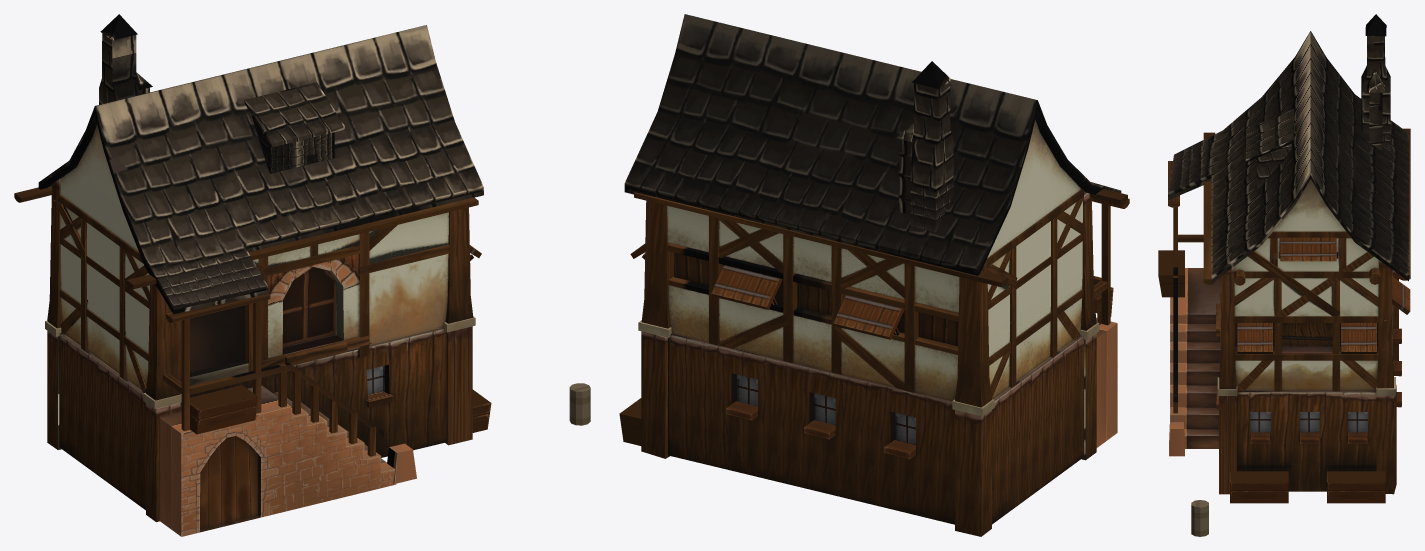
Rendered from house.obj.
3 views of the same model, side by side, from view 1: azimuth 30°, elevation 25°; view 2: azimuth 150°, elevation 25°; view 3: azimuth 270°, elevation 25° (orthographic). The views are drawn at different scales.
Parts seen in each view (by area): view 1: 1_1_lambert33SG, 1_1_lambert35SG, 1_1_lambert34SG, 1_1_lambert36SG, 1_1_lambert38SG, 1_1_initialShadingGroup; view 2: 1_1_lambert33SG, 1_1_lambert35SG, 1_1_lambert34SG, 1_1_lambert36SG; view 3: 1_1_lambert33SG, 1_1_lambert35SG, 1_1_lambert34SG, 1_1_lambert36SG, 1_1_lambert38SG, 1_1_initialShadingGroup.
Boxes of the visible parts, x1=… form: 1_1_lambert33SG: x1=14, y1=124, x2=478, y2=522; 1_1_lambert35SG: x1=38, y1=25, x2=483, y2=309; 1_1_lambert34SG: x1=85, y1=224, x2=491, y2=536; 1_1_lambert36SG: x1=38, y1=14, x2=483, y2=314; 1_1_lambert38SG: x1=251, y1=114, x2=334, y2=173; 1_1_initialShadingGroup: x1=569, y1=383, x2=590, y2=425; 1_1_lambert33SG: x1=634, y1=119, x2=1129, y2=536; 1_1_lambert35SG: x1=624, y1=14, x2=1121, y2=273; 1_1_lambert34SG: x1=619, y1=220, x2=1117, y2=458; 1_1_lambert36SG: x1=624, y1=61, x2=1100, y2=275; 1_1_lambert33SG: x1=1168, y1=128, x2=1410, y2=494; 1_1_lambert35SG: x1=1168, y1=31, x2=1408, y2=279; 1_1_lambert34SG: x1=1158, y1=237, x2=1410, y2=503; 1_1_lambert36SG: x1=1168, y1=14, x2=1408, y2=283; 1_1_lambert38SG: x1=1257, y1=143, x2=1291, y2=189; 1_1_initialShadingGroup: x1=1191, y1=500, x2=1208, y2=536.
Size of the model in its own units: 8.38 by 7.47 by 4.64.
